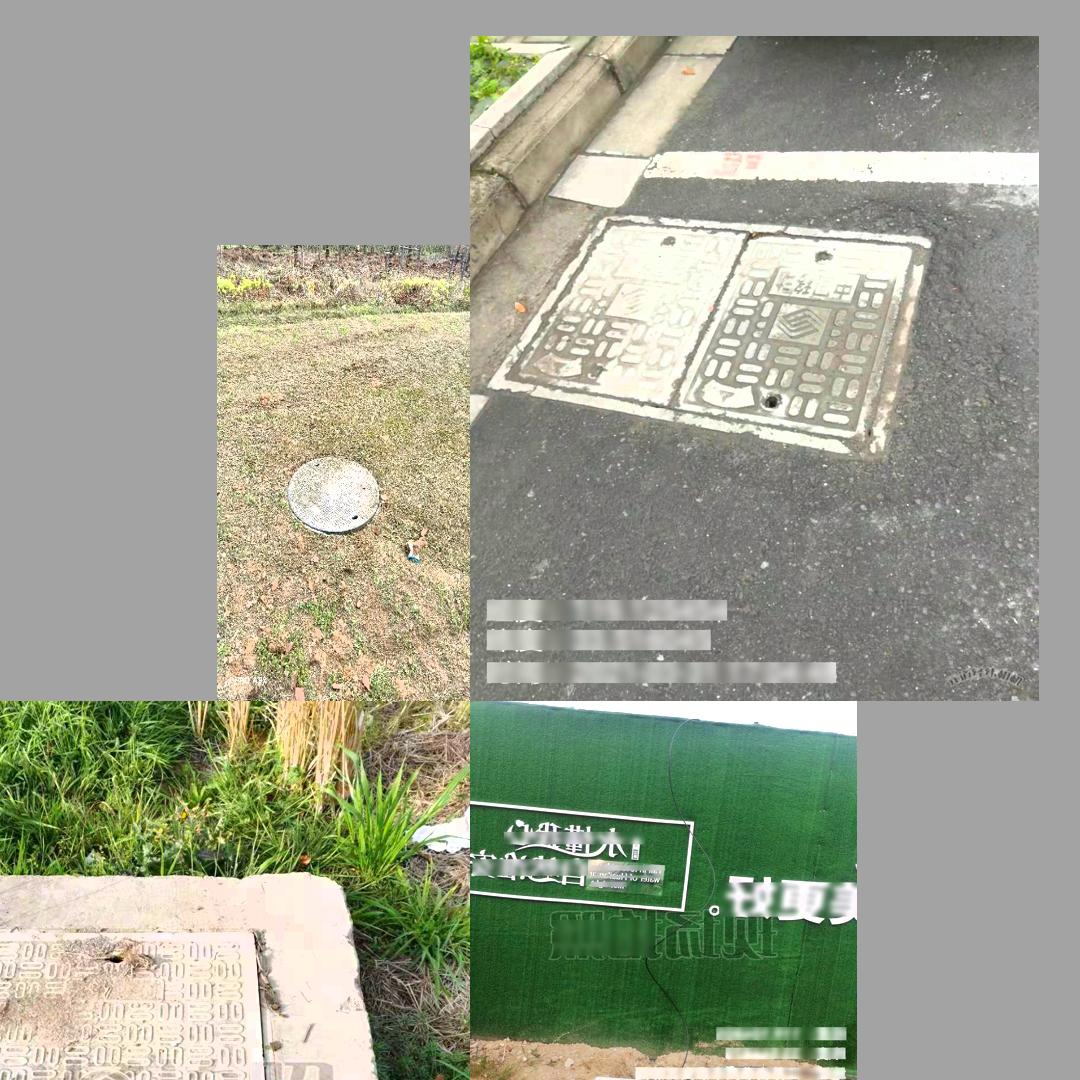good: (482, 216, 929, 456), (0, 873, 303, 1080), (286, 454, 378, 531), (552, 1074, 707, 1080)
